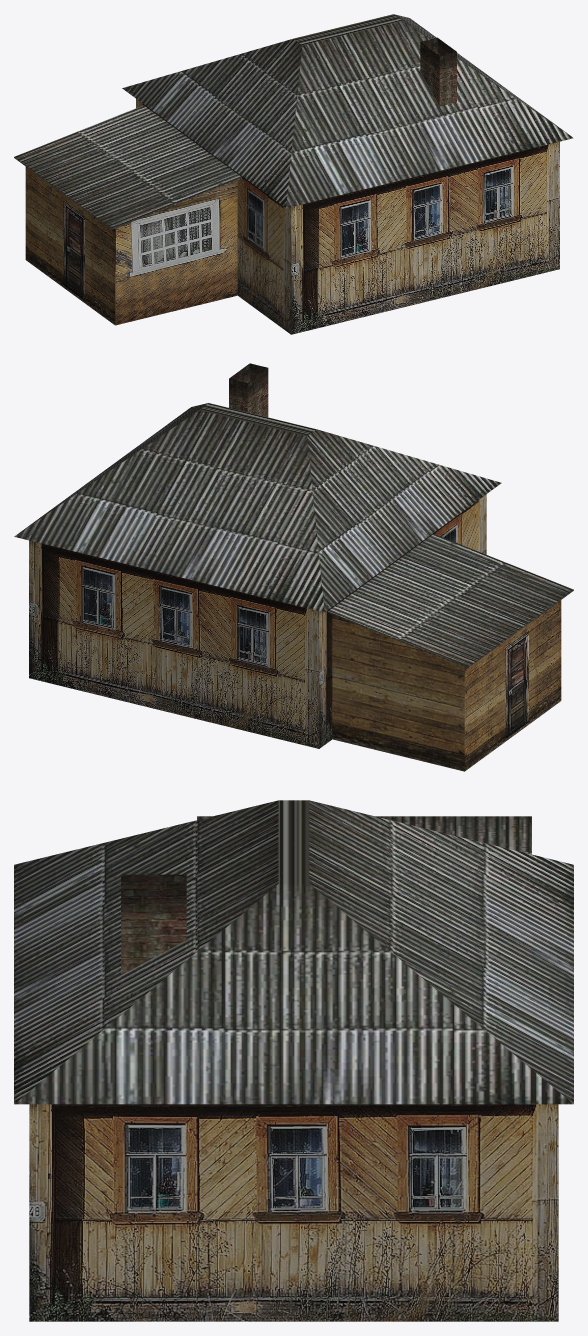
The model's file is d_dom_1et_36.FBX.
The picture shows the model from 3 angles, top to bottom: view 1: azimuth 30°, elevation 25°; view 2: azimuth 150°, elevation 25°; view 3: azimuth 270°, elevation 25°; orthographic projection. The views are drawn at different scales.
Parts seen in each view (by area): view 1: d_dom_1et_36; view 2: d_dom_1et_36; view 3: d_dom_1et_36.
Boxes of the visible parts, bbox=[...] form: d_dom_1et_36: bbox=[14, 14, 573, 334]; d_dom_1et_36: bbox=[14, 363, 573, 771]; d_dom_1et_36: bbox=[14, 800, 573, 1321].
Size of the model in its own units: 10.68 by 7.44 by 5.41.
